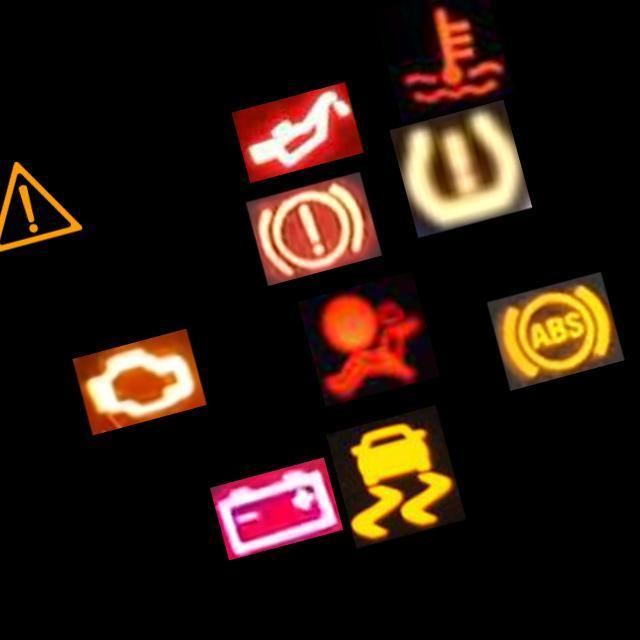Central Warning lamp: (0, 129, 99, 274)
Engine cooling system: (372, 0, 517, 124)
